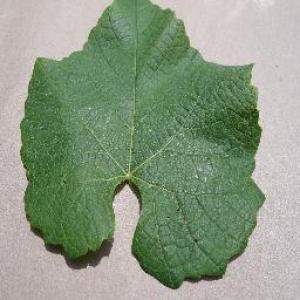Folha: (18, 0, 266, 289)
